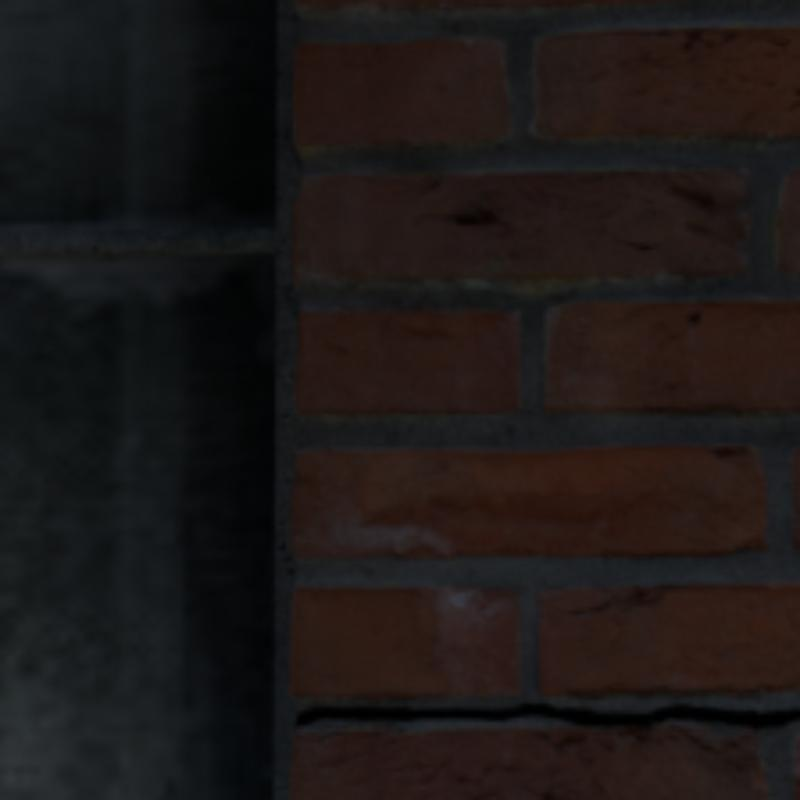pothole: (300, 704, 796, 725)
